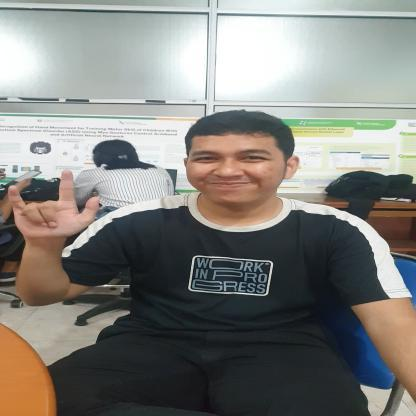ILoveYou: (1, 164, 106, 242)
